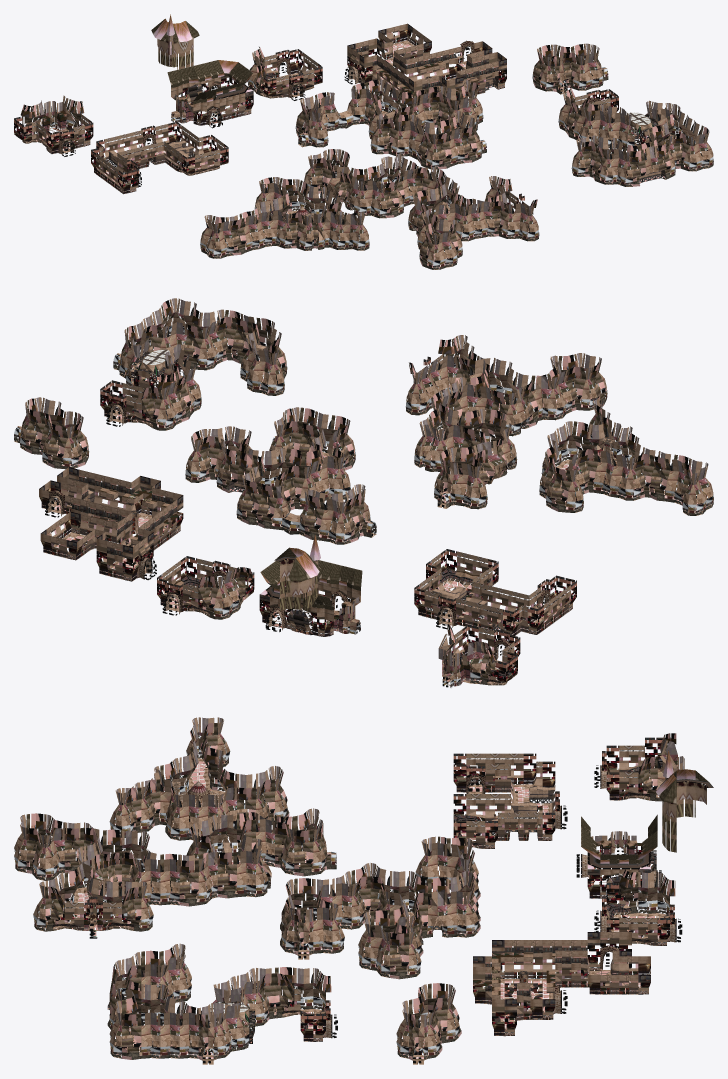
3 renders of one model, top to bottom at view 1: azimuth 30°, elevation 25°; view 2: azimuth 150°, elevation 25°; view 3: azimuth 270°, elevation 25°, orthographic. The views are drawn at different scales.
Visible parts, largest first — view 1: T1L1M002_525, T1L1M002_480, T1L1M002_526, T1L1M002_399, T1L1M002_493, T1L1M002_573, T1L1M002_397, T1L1M002_481, T1L1M002_578, T1L1M002_612, T1L1M002_336, T1L1M002_593 (+20 smaller); view 2: T1L1M002_410, T1L1M002_581, T1L1M002_391, T1L1M002_306, T1L1M002_295, T1L1M002_271, T1L1M002_454, T1L1M002_26, T1L1M002_268, T1L1M002_3, T1L1M002_272, T1L1M002_371 (+16 smaller); view 3: T1L1M002_378, T1L1M002_444, T1L1M002_562, T1L1M002_496, T1L1M002_70, T1L1M002_476, T1L1M002_383, T1L1M002_293, T1L1M002_502, T1L1M002_369, T1L1M002_522, T1L1M002_513 (+24 smaller).
Boxes of the visible parts, box(x1,y1,x2,y2) form: T1L1M002_525: box(308, 213, 325, 249); T1L1M002_480: box(230, 218, 246, 255); T1L1M002_526: box(321, 210, 338, 248); T1L1M002_399: box(460, 126, 477, 162); T1L1M002_493: box(382, 180, 399, 217); T1L1M002_573: box(629, 149, 645, 186); T1L1M002_397: box(435, 132, 452, 169); T1L1M002_481: box(243, 215, 259, 252); T1L1M002_578: box(692, 133, 709, 170); T1L1M002_612: box(436, 232, 453, 269); T1L1M002_336: box(582, 53, 599, 90); T1L1M002_593: box(465, 203, 482, 240); T1L1M002_410: box(419, 424, 439, 471); T1L1M002_581: box(530, 374, 551, 420); T1L1M002_391: box(551, 466, 571, 512); T1L1M002_306: box(25, 409, 45, 454); T1L1M002_295: box(47, 423, 67, 468); T1L1M002_271: box(257, 483, 277, 528); T1L1M002_454: box(650, 455, 669, 501); T1L1M002_26: box(197, 576, 218, 618); T1L1M002_268: box(304, 494, 324, 540); T1L1M002_3: box(438, 648, 462, 687); T1L1M002_272: box(242, 479, 261, 525); T1L1M002_371: box(140, 387, 161, 430); T1L1M002_378: box(294, 830, 313, 876); T1L1M002_444: box(217, 852, 236, 898); T1L1M002_562: box(122, 1013, 141, 1059); T1L1M002_496: box(179, 860, 198, 906); T1L1M002_70: box(619, 869, 638, 917); T1L1M002_476: box(198, 1014, 217, 1062); T1L1M002_383: box(294, 909, 313, 957); T1L1M002_293: box(447, 891, 466, 937); T1L1M002_502: box(179, 1012, 198, 1058); T1L1M002_369: box(313, 907, 332, 953); T1L1M002_522: box(160, 1012, 179, 1058); T1L1M002_513: box(160, 859, 179, 905).
Size of the model in its own units: 156 by 27.19 by 146.
